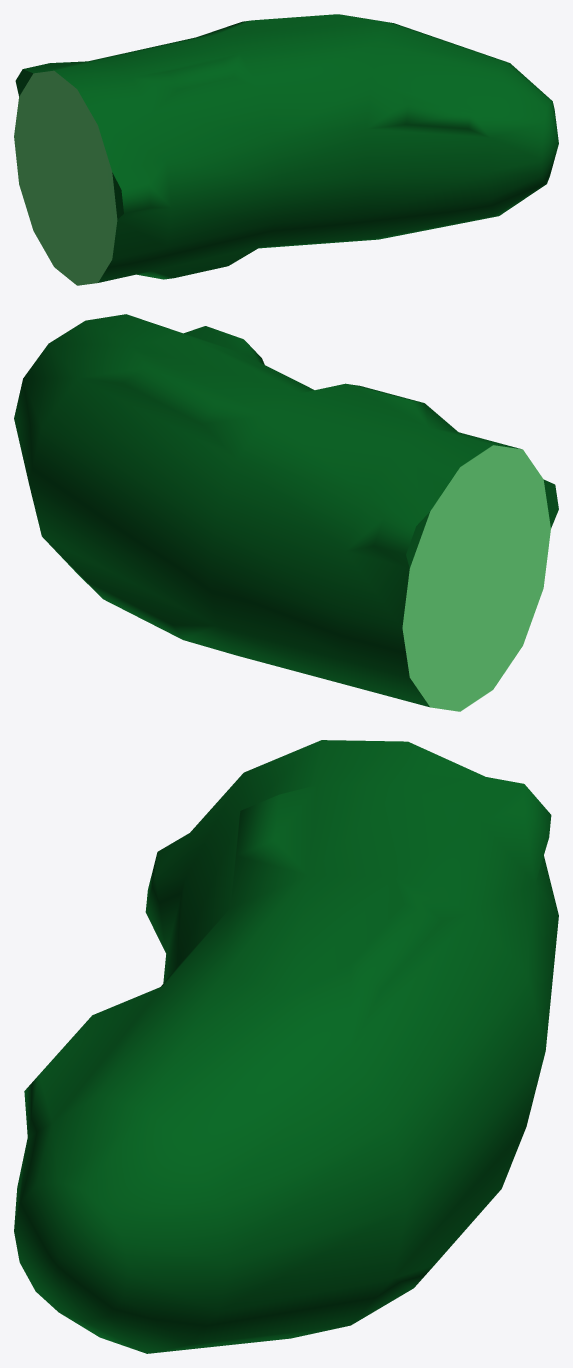
The model's file is mesh_Pickle_Stage07.fbx.
3 renders of one model, top to bottom at view 1: azimuth 30°, elevation 25°; view 2: azimuth 150°, elevation 25°; view 3: azimuth 270°, elevation 25°, orthographic. The views are drawn at different scales.
Parts seen in each view (by area): view 1: mesh_Pickle_Stage07; view 2: mesh_Pickle_Stage07; view 3: mesh_Pickle_Stage07.
Part boxes in pixels (x1,y1,x2,y2): mesh_Pickle_Stage07: (14, 14, 558, 285); mesh_Pickle_Stage07: (14, 314, 558, 711); mesh_Pickle_Stage07: (14, 740, 558, 1353).
Size of the model in its own units: 0.0737 by 0.0349 by 0.0468.
